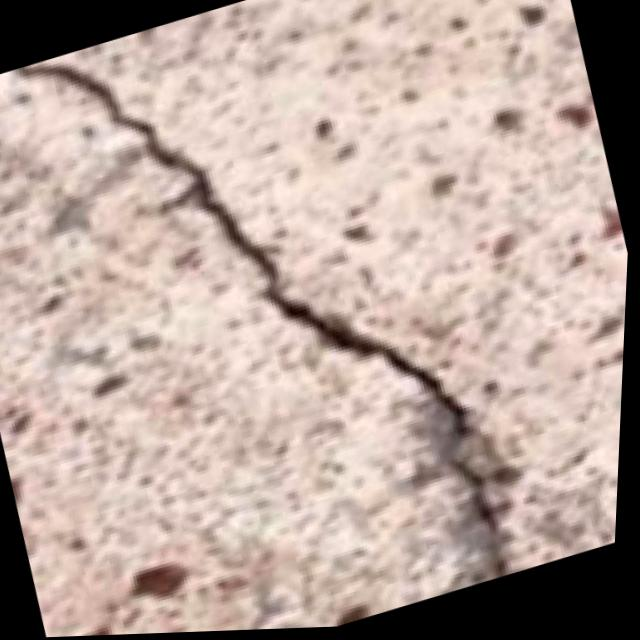Crack: (0, 0, 571, 640)
